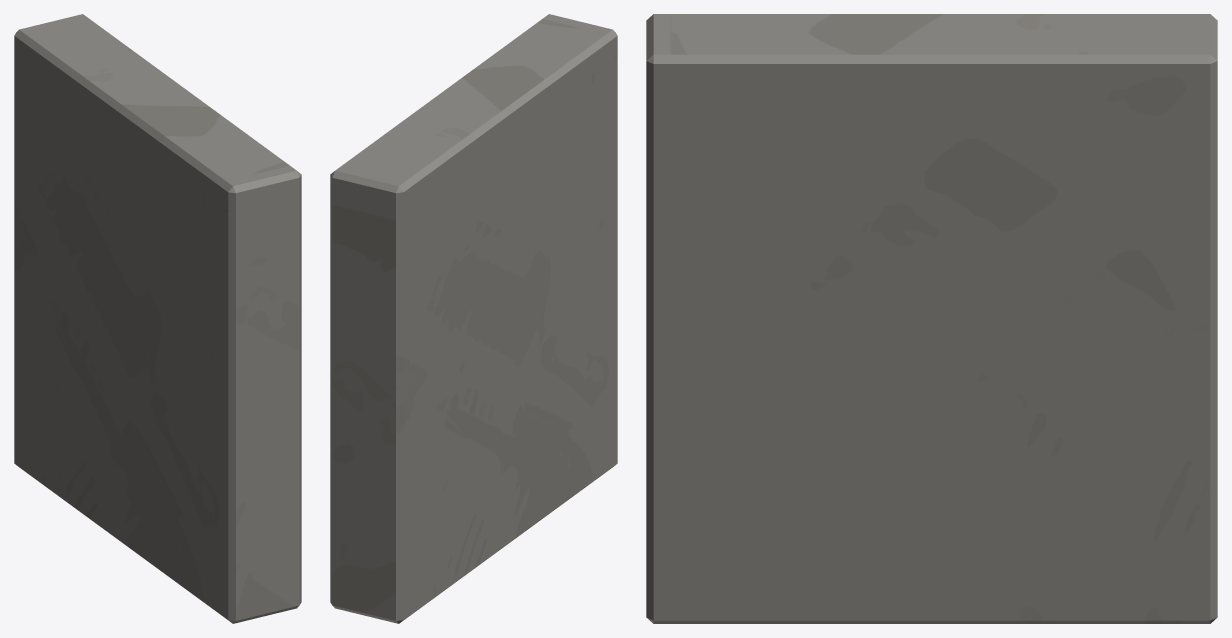
File: model_concrete_wall.fbx
3 renders of one model, left to right at view 1: azimuth 30°, elevation 25°; view 2: azimuth 150°, elevation 25°; view 3: azimuth 270°, elevation 25°, orthographic. The views are drawn at different scales.
Visible parts, largest first — view 1: model_concrete_wall; view 2: model_concrete_wall; view 3: model_concrete_wall.
Part boxes in pixels (x1=…): model_concrete_wall: x1=14, y1=14, x2=301, y2=623; model_concrete_wall: x1=330, y1=14, x2=617, y2=623; model_concrete_wall: x1=646, y1=14, x2=1217, y2=623.
Bounding box in the file's own units: 58.14 × 331 × 301.
1 material, 1 textured.
